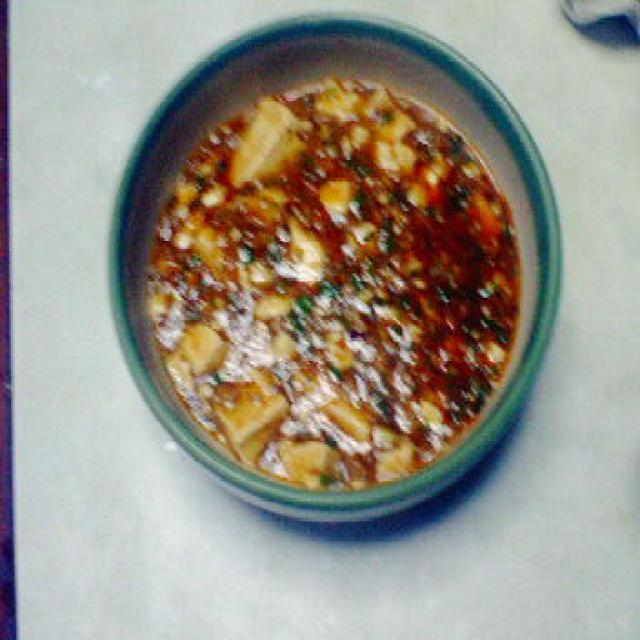豆腐料理: (84, 0, 566, 536)
